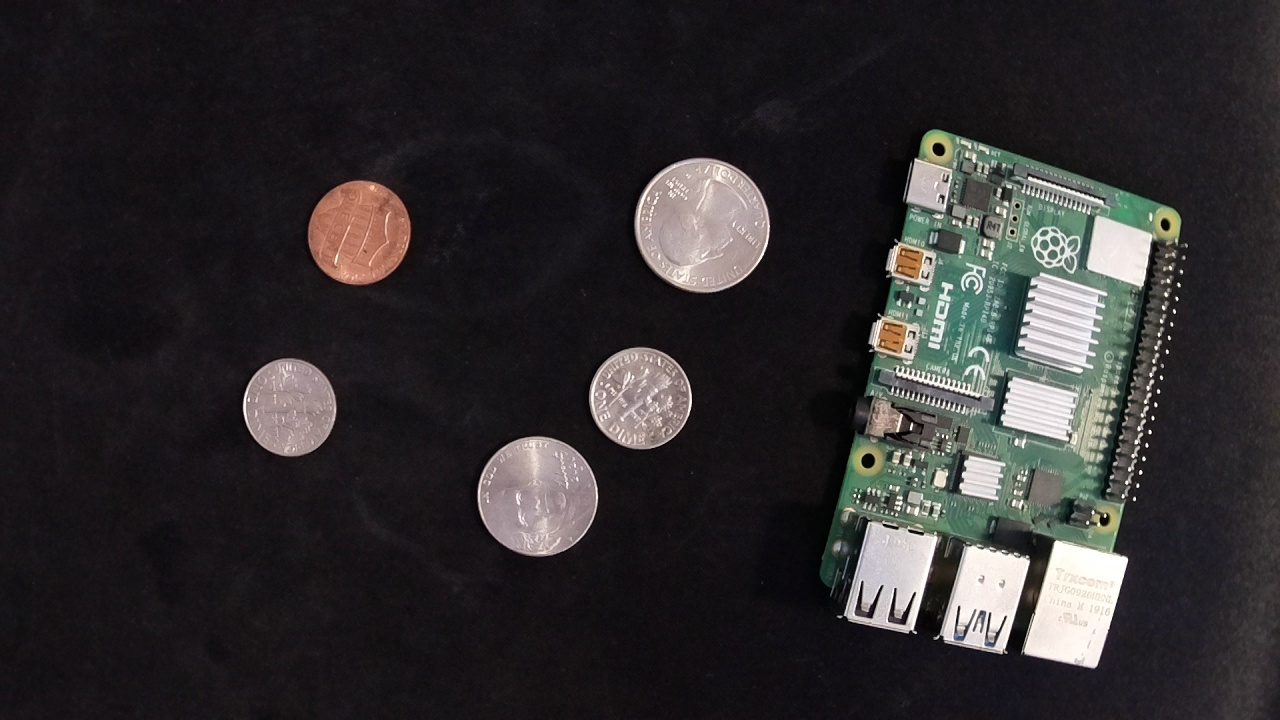dime: (586, 344, 696, 450), (237, 354, 343, 462)
nickel: (471, 431, 599, 565)
penny: (302, 176, 414, 290)
quarter: (629, 154, 773, 298)
